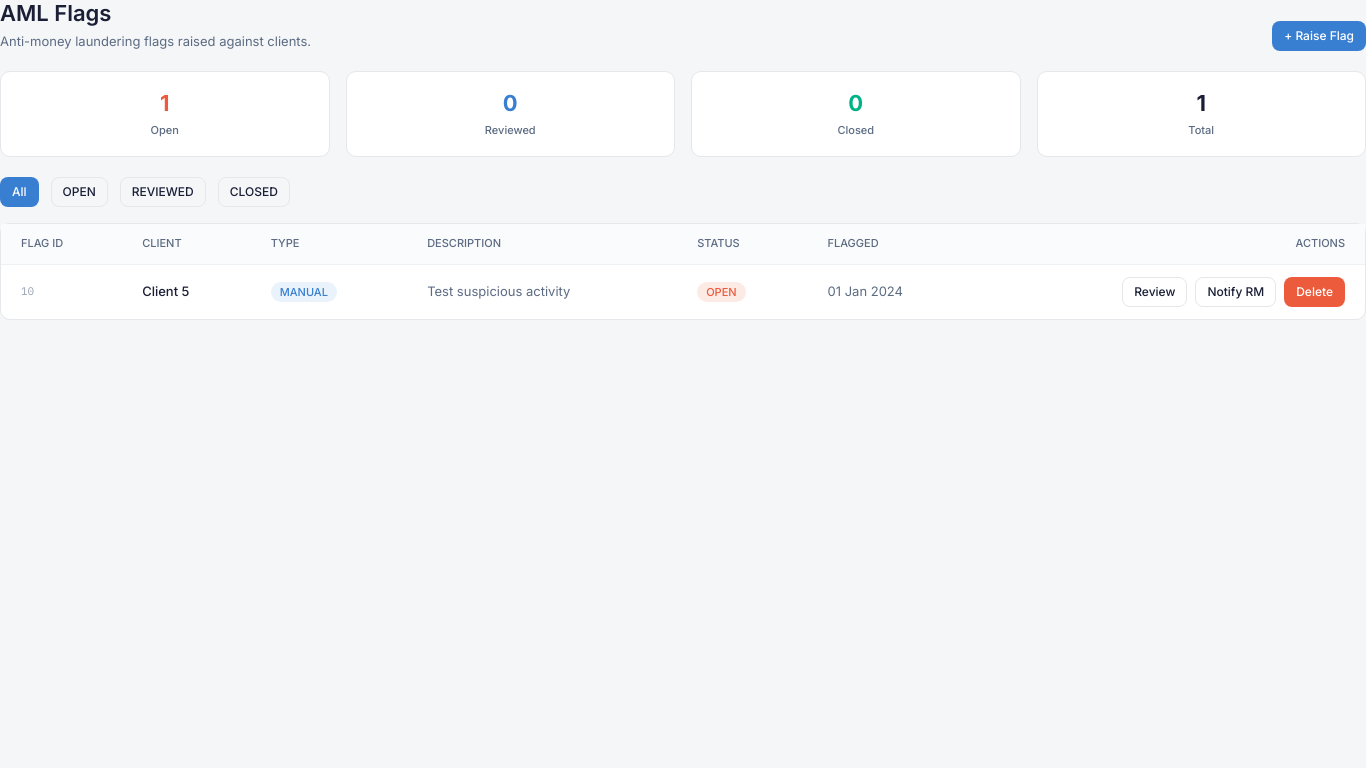
Test: AmlFlags extra tests › opens Review modal when Review button is clicked on OPEN flag
Click the button "Review": (1155,292) [1122,277,1187,307]
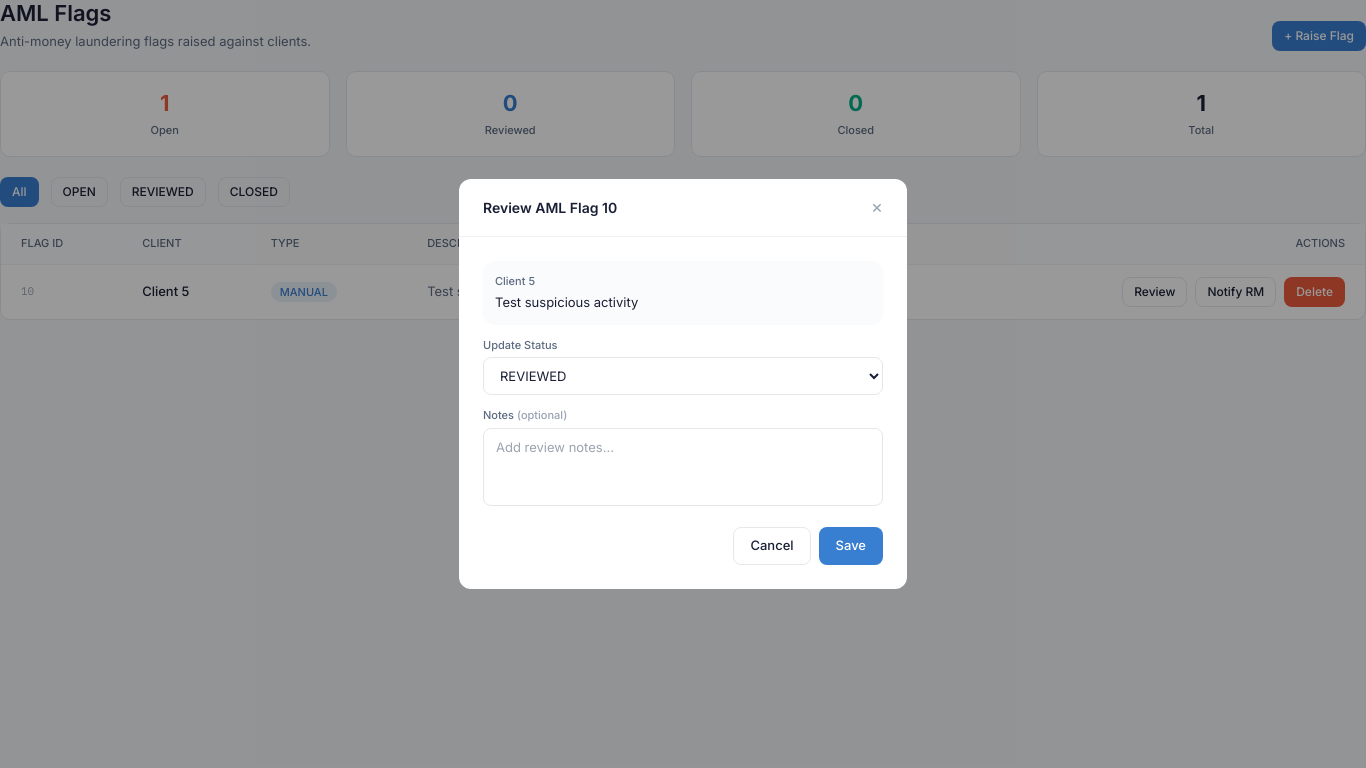
Now the heading "Review AML Flag 10" is shown, box [483,197,617,218]
